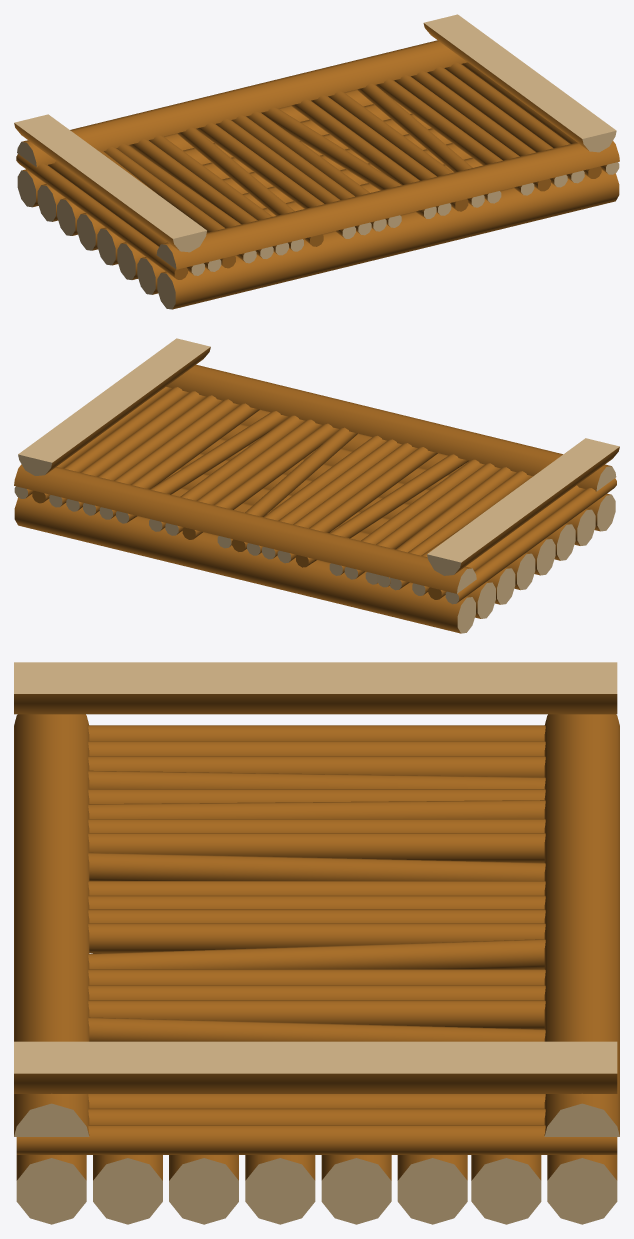
Rendered from raftupdate2.fbx.
3 renders of one model, top to bottom at view 1: azimuth 30°, elevation 25°; view 2: azimuth 150°, elevation 25°; view 3: azimuth 270°, elevation 25°, orthographic. The views are drawn at different scales.
Parts seen in each view (by area): view 1: RaftUpdate; view 2: RaftUpdate; view 3: RaftUpdate.
Boxes of the visible parts, box(x1,y1,x2,y2) form: RaftUpdate: box(14, 14, 619, 309); RaftUpdate: box(14, 338, 619, 633); RaftUpdate: box(14, 662, 619, 1224).
Size of the model in its own units: 2664 by 444 by 1646.
